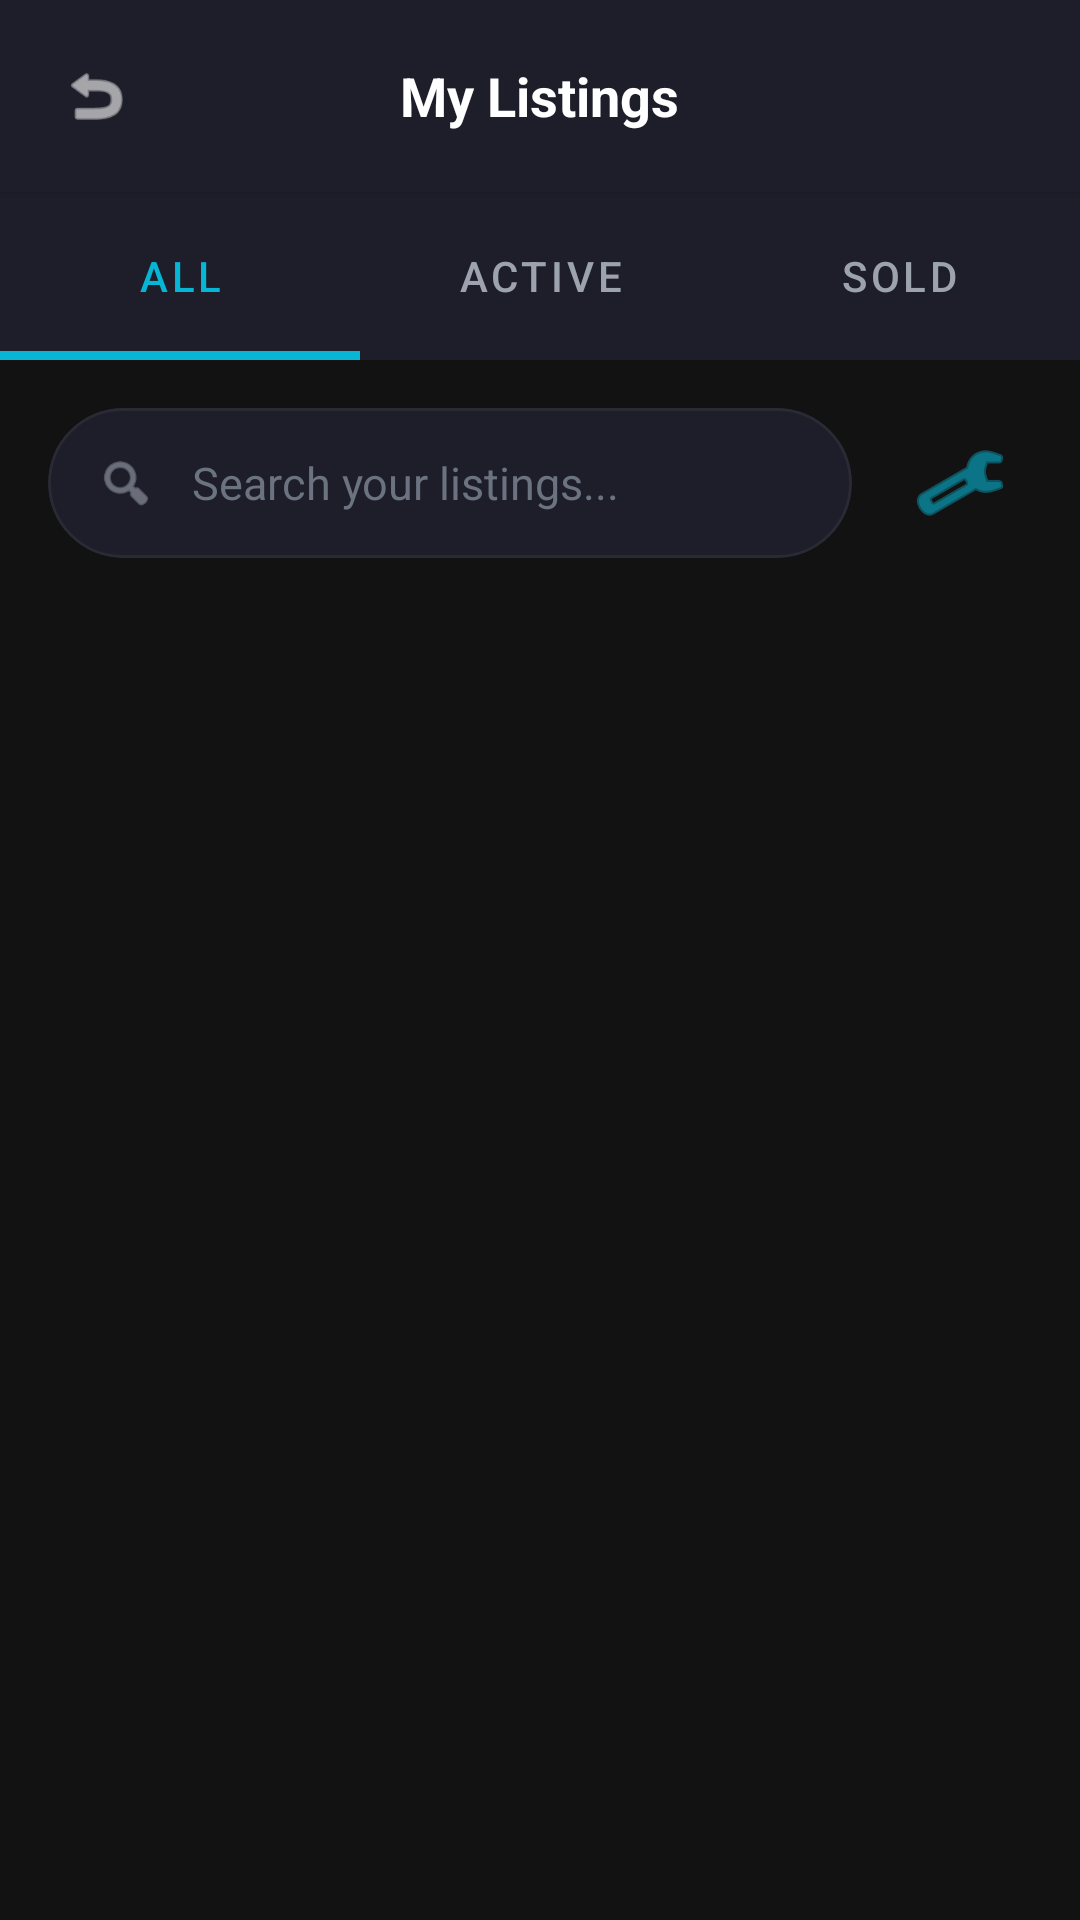

Screen size 1080 × 1920. Icon name, then its center in pixels as (x=x, y=y):
Back: (x=97, y=96)
